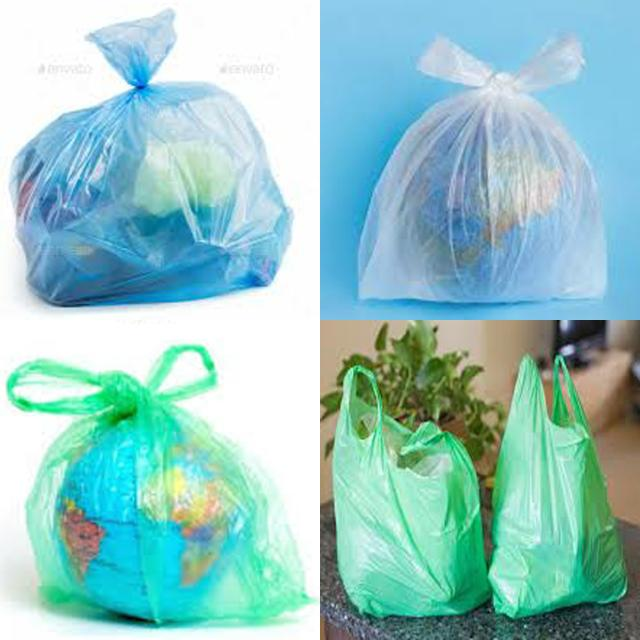Single-layer Plastic: (11, 10, 291, 306), (8, 345, 306, 622), (358, 35, 605, 302), (332, 366, 490, 616), (489, 356, 626, 618)
